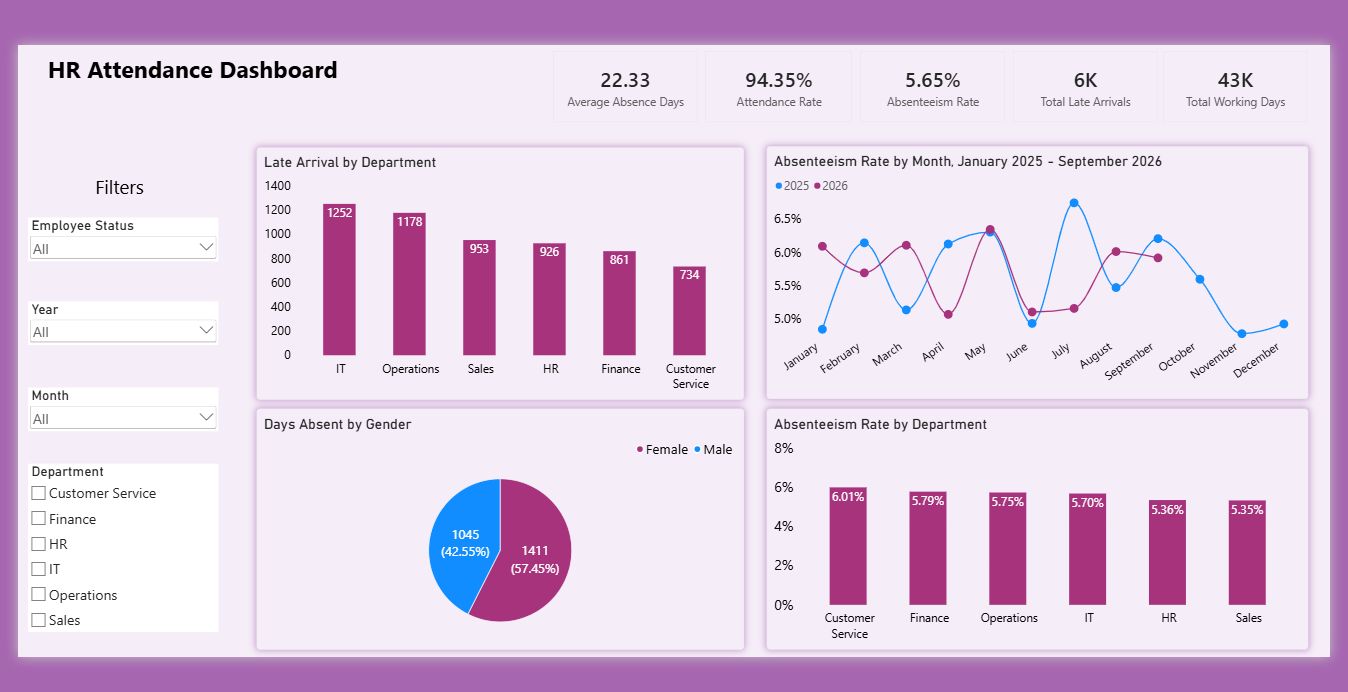

The dashboard page shown, as its layout file describes it:
{"tool":"powerbi","page":{"name":"Attendance Dashboard","canvas":[3000,1400],"ordinal":1},"visuals":[{"type":"textbox","box":[25,17.5,967.5,87.5],"z":0},{"type":"cardVisual","fields":{"Data":["Attendance KPI.Absenteeism Rate"]},"box":[1925,15,330,162.5],"z":1000},{"type":"textbox","box":[135,295,184,60],"z":2000},{"type":"cardVisual","fields":{"Data":["Attendance KPI.Total Working Days"]},"box":[2617.5,15,330,162.5],"z":3000},{"type":"lineStackedColumnComboChart","title":"Late Arrival by Department","fields":{"Category":["tblEmployees.Department"],"Y":["Sum(tblAttendance.LateArrivals)"]},"box":[545,235,1113.3,576.7],"z":4000},{"type":"slicer","fields":{"Values":["tblEmployees.Status"]},"box":[22.5,395,435,100],"z":5000},{"type":"slicer","fields":{"Values":["tblAttendance.Year"]},"box":[22.5,585,435,100],"z":6000},{"type":"slicer","fields":{"Values":["tblAttendance.Month Name"]},"box":[22.5,782.5,435,100],"z":7000},{"type":"pieChart","title":"Days Absent by Gender","fields":{"Category":["tblEmployees.Gender"],"Y":["Sum(tblAttendance.DaysAbsent)"]},"box":[545,832.5,1113.3,550],"z":8000},{"type":"cardVisual","fields":{"Data":["Attendance KPI.Average Absence Days"]},"box":[1222.5,15,330,162],"z":9000},{"type":"columnChart","title":"Absenteeism Rate by Department","fields":{"Category":["tblEmployees.Department"],"Y":["Attendance KPI.Absenteeism Rate"]},"box":[1710,832.5,1237.5,550],"z":10000},{"type":"lineChart","title":"Absenteeism Rate by Month, January 2025 - September 2026","fields":{"Category":["tblAttendance.Month Name"],"Series":["tblAttendance.Year"],"Y":["Attendance KPI.Absenteeism Rate"]},"box":[1710,232.5,1237.5,577.5],"z":11000},{"type":"slicer","fields":{"Values":["tblEmployees.Department"]},"box":[22.5,957.5,435,385],"z":12000},{"type":"cardVisual","fields":{"Data":["Attendance KPI.Total Late Arrivals"]},"box":[2275,15,330,162.5],"z":13000},{"type":"cardVisual","fields":{"Data":["Attendance KPI.Attendance Rate"]},"box":[1572.5,15,335,162.5],"z":14000}]}

Visuals, with their boxes on the page's 3000x1400 design canvas (x1, y1, x2, y2). These are canvas units, not pixel positions in the 1348x692 screenshot, which may show the page scaled, cropped or inside an application window:
textbox: 25:18:992:105
cardVisual - Attendance KPI.Absenteeism Rate: 1925:15:2255:178
textbox: 135:295:319:355
cardVisual - Attendance KPI.Total Working Days: 2618:15:2948:178
"Late Arrival by Department" lineStackedColumnComboChart: 545:235:1658:812
slicer - tblEmployees.Status: 22:395:458:495
slicer - tblAttendance.Year: 22:585:458:685
slicer - tblAttendance.Month Name: 22:782:458:882
"Days Absent by Gender" pieChart: 545:832:1658:1382
cardVisual - Attendance KPI.Average Absence Days: 1222:15:1552:177
"Absenteeism Rate by Department" columnChart: 1710:832:2948:1382
"Absenteeism Rate by Month, January 2025 - September 2026" lineChart: 1710:232:2948:810
slicer - tblEmployees.Department: 22:958:458:1342
cardVisual - Attendance KPI.Total Late Arrivals: 2275:15:2605:178
cardVisual - Attendance KPI.Attendance Rate: 1572:15:1908:178
